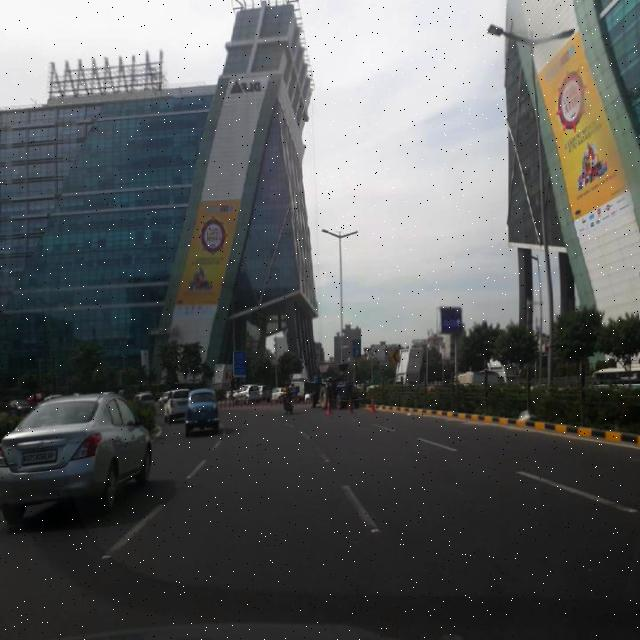D44: (314, 438, 342, 470)
